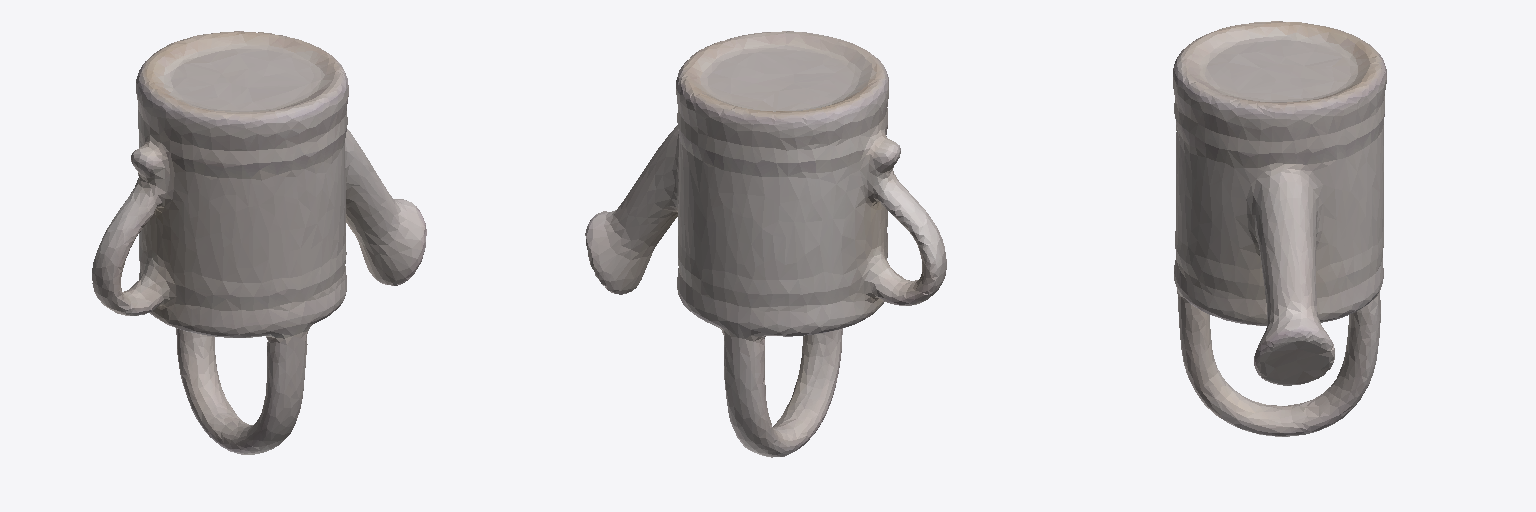
3 views of the same model, side by side, from view 1: azimuth 30°, elevation 25°; view 2: azimuth 150°, elevation 25°; view 3: azimuth 270°, elevation 25° (orthographic).
Size of the model in its own units: 182 by 194 by 101.
Materials: 1 (1 with a texture image).